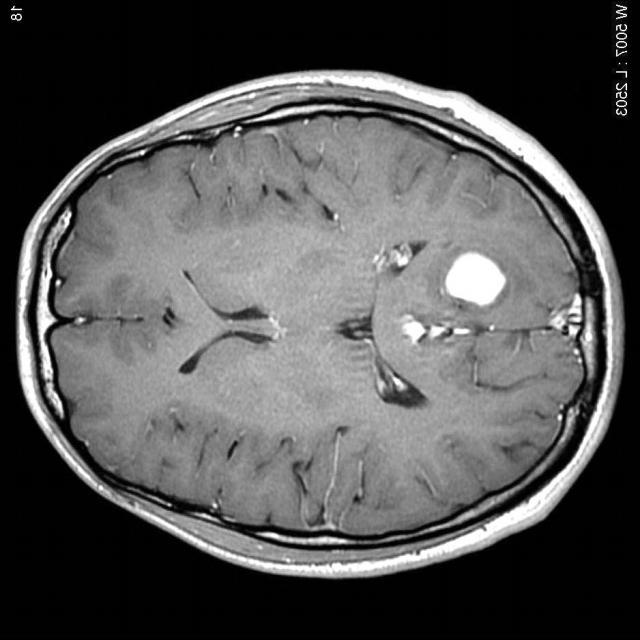tumor: (445, 249, 512, 308)
